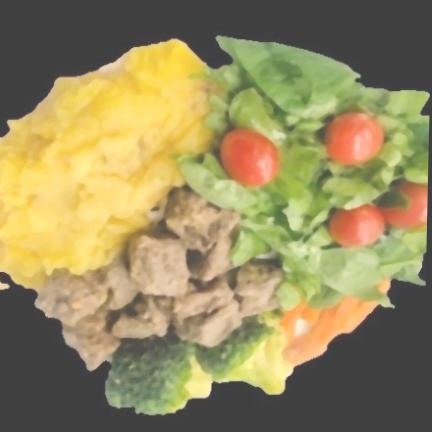broccoli: (105, 308, 291, 415)
carrot: (281, 301, 375, 366)
meat: (36, 188, 284, 371)
potato: (0, 41, 212, 295)
salad: (179, 37, 430, 310)
tomato: (326, 178, 428, 247), (220, 127, 281, 187), (323, 111, 384, 165)
